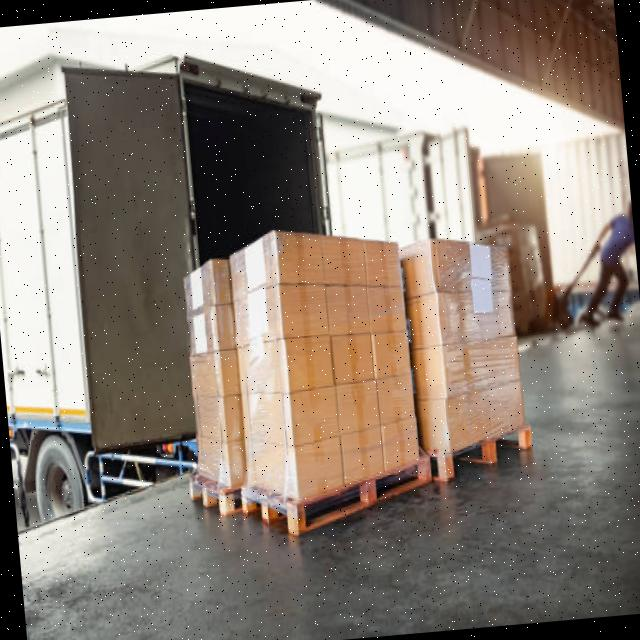Wooden-Pallets: (239, 448, 430, 540), (434, 416, 537, 495), (179, 467, 237, 539)
